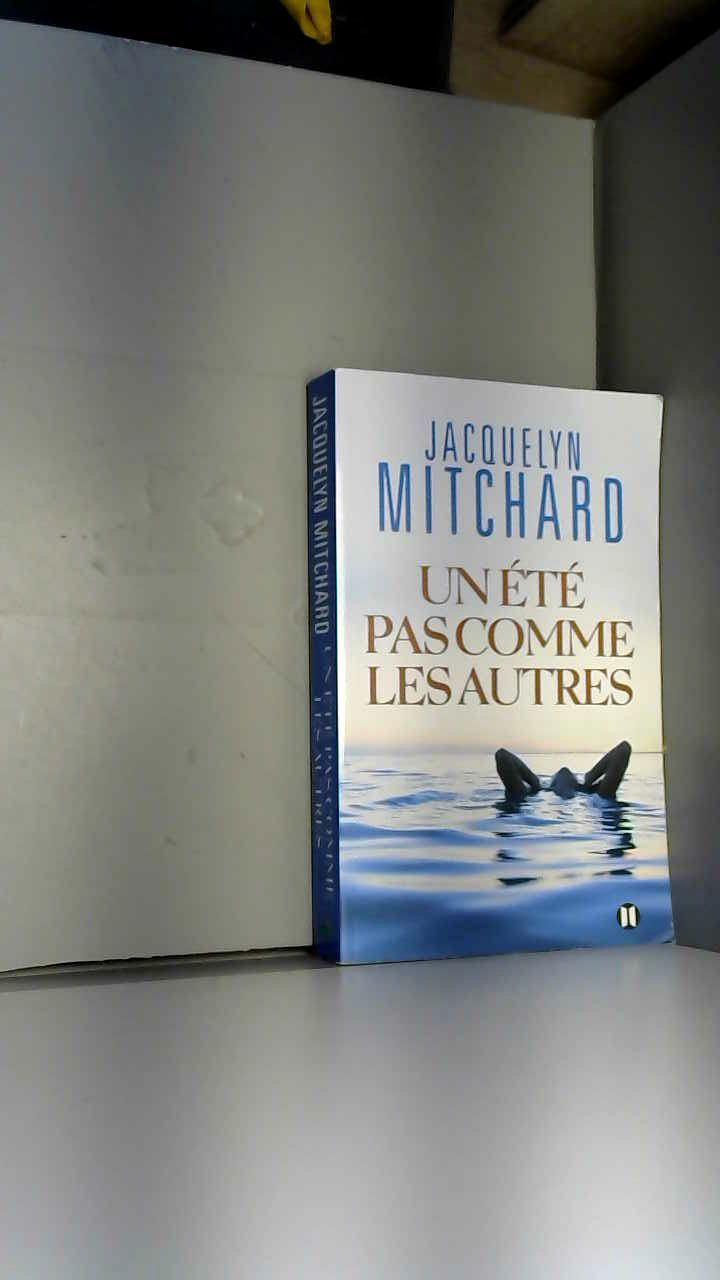book: (268, 325, 712, 1000)
